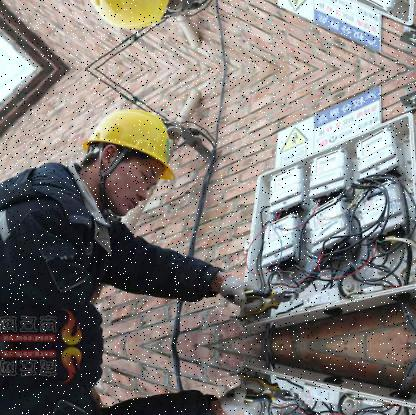helmet: (76, 98, 186, 213), (75, 0, 186, 39)
